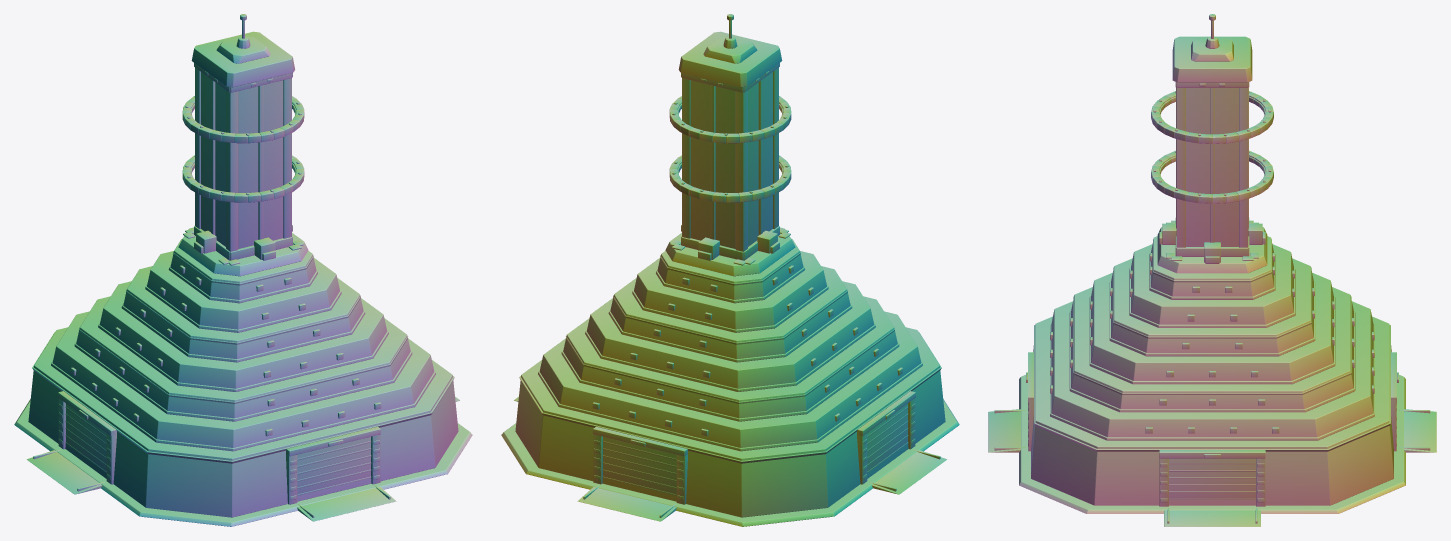
File: hq_t5_rig.glb
3 renders of one model, left to right at view 1: azimuth 30°, elevation 25°; view 2: azimuth 150°, elevation 25°; view 3: azimuth 270°, elevation 25°, orthographic.
Parts seen in each view (by area): view 1: body, spin_ring_1, spin_ring_0, door_0, door_2; view 2: body, spin_ring_1, spin_ring_0, door_3, door_2; view 3: body, spin_ring_0, spin_ring_1, door_1.
Boxes of the visible parts, x1,y1,x2,y2 form: body: (14,14,472,526); spin_ring_1: (182,96,304,143); spin_ring_0: (182,155,304,202); door_0: (297,441,371,495); door_2: (65,407,106,472); body: (501,14,959,526); spin_ring_1: (669,96,791,143); spin_ring_0: (669,155,791,202); door_3: (602,441,676,495); door_2: (867,407,908,472); body: (988,14,1436,526); spin_ring_0: (1151,150,1273,203); spin_ring_1: (1151,91,1273,143); door_1: (1169,463,1255,499).
Bounding box in the file's own units: 74 × 76 × 74.
